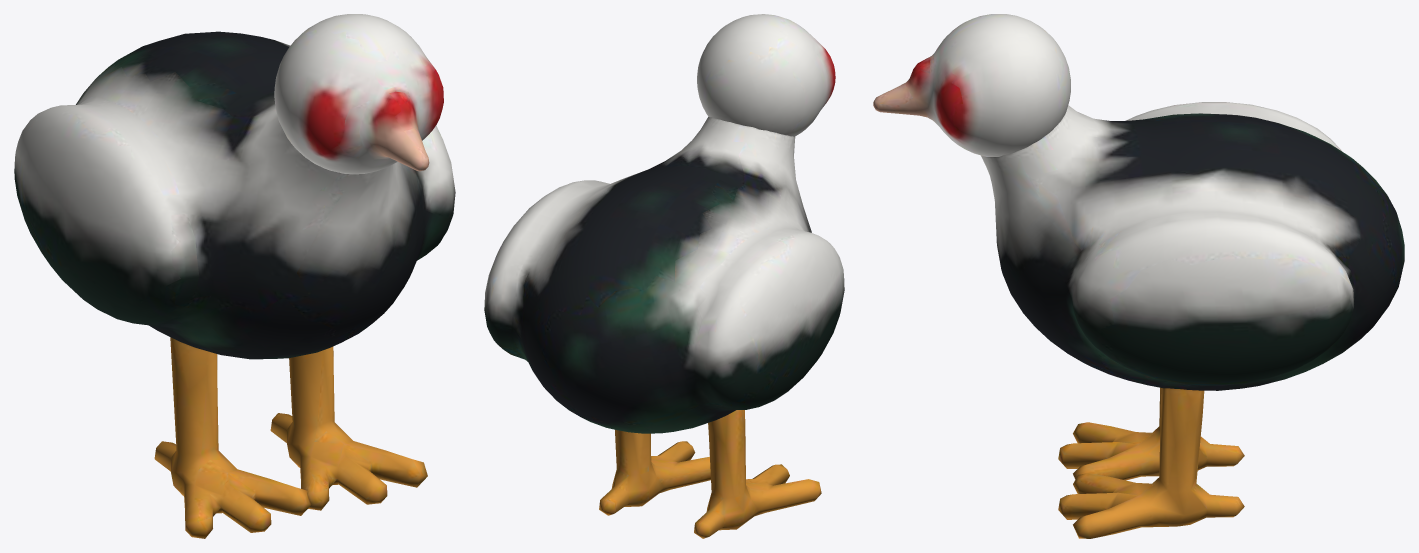
Rendered from animal_muscovy_duck.glb.
3 renders of one model, left to right at view 1: azimuth 30°, elevation 25°; view 2: azimuth 150°, elevation 25°; view 3: azimuth 270°, elevation 25°, orthographic. The views are drawn at different scales.
Parts seen in each view (by area): view 1: animal_muscovy_duck, head, leg0, leg1; view 2: animal_muscovy_duck, head, leg0, leg1; view 3: animal_muscovy_duck, head, leg1, leg0.
Part boxes in pixels (x1,y1,x2,y2): animal_muscovy_duck: [14, 31, 455, 359]; head: [274, 14, 443, 174]; leg0: [154, 337, 311, 538]; leg1: [270, 346, 427, 510]; animal_muscovy_duck: [484, 117, 844, 433]; head: [697, 14, 835, 136]; leg0: [694, 410, 821, 538]; leg1: [599, 430, 710, 515]; animal_muscovy_duck: [981, 102, 1404, 390]; head: [873, 14, 1070, 156]; leg1: [1058, 388, 1244, 538]; leg0: [1058, 387, 1244, 480].
Size of the model in its own units: 0.18 by 0.2644 by 0.2652.
1 material, 1 textured.
